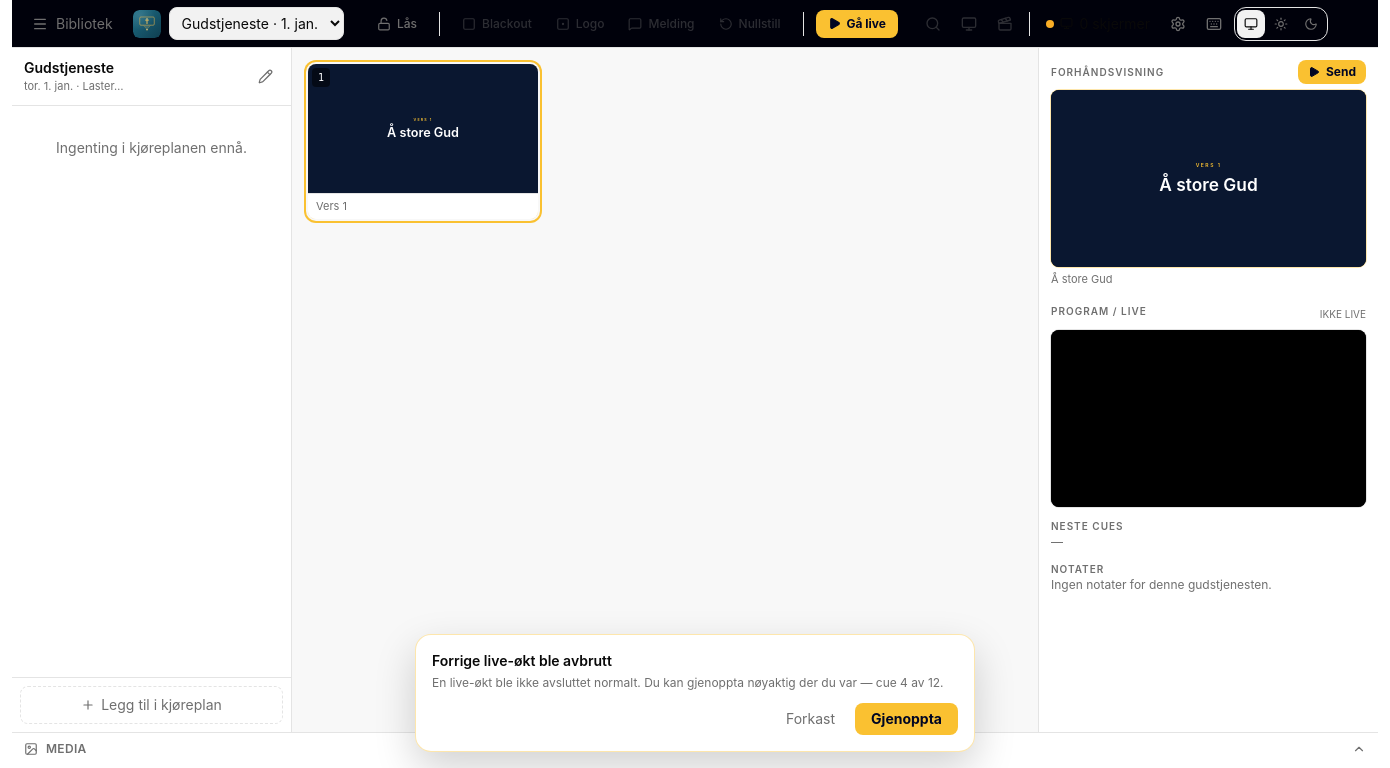
the crash-recovery banner › clears the log on Discard — and never ends a service
Click the button "Forkast" at (811, 719), box [774,703,847,735]
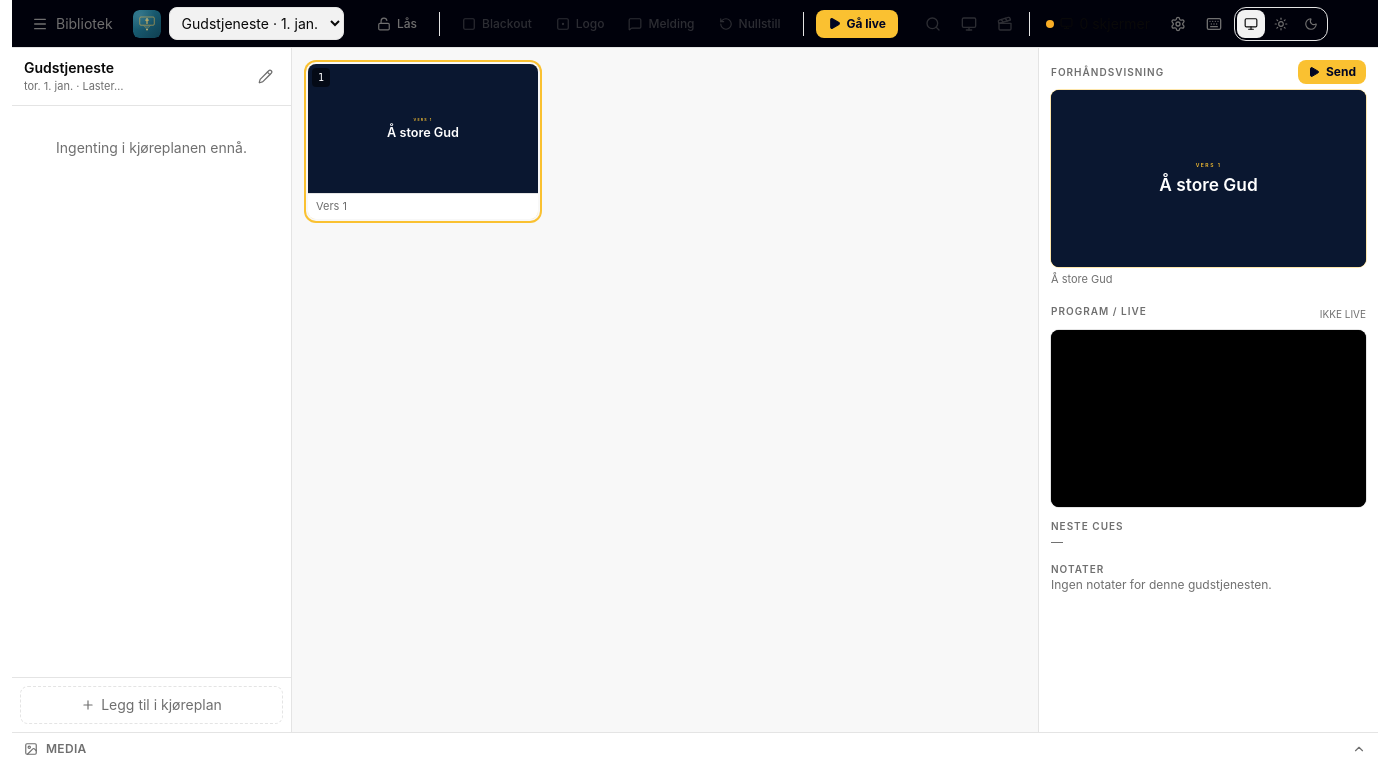
Expected: the button "Forkast" is gone
